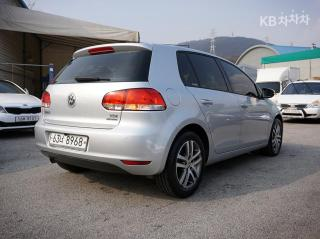3: (56, 134, 60, 143)
6: (74, 136, 79, 146), (52, 134, 56, 143)
8: (78, 136, 84, 147), (65, 135, 70, 144)
9: (69, 135, 75, 145)
너: (59, 135, 65, 144)
